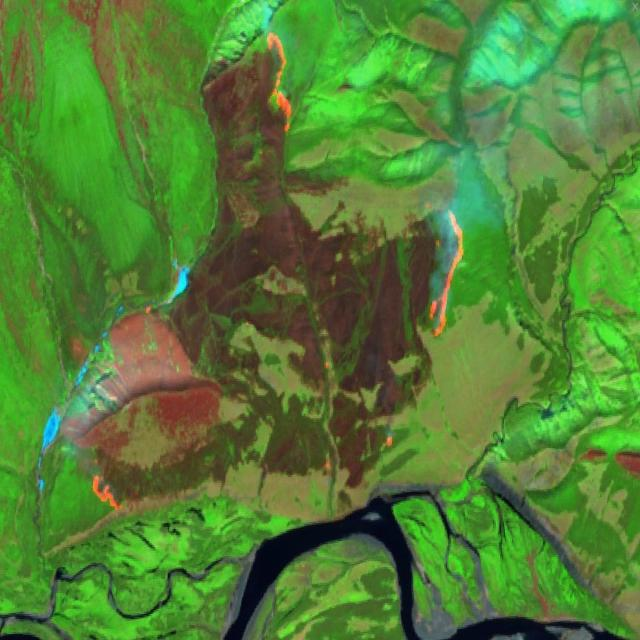fire: (421, 190, 476, 351), (258, 20, 318, 150), (83, 460, 127, 523)
